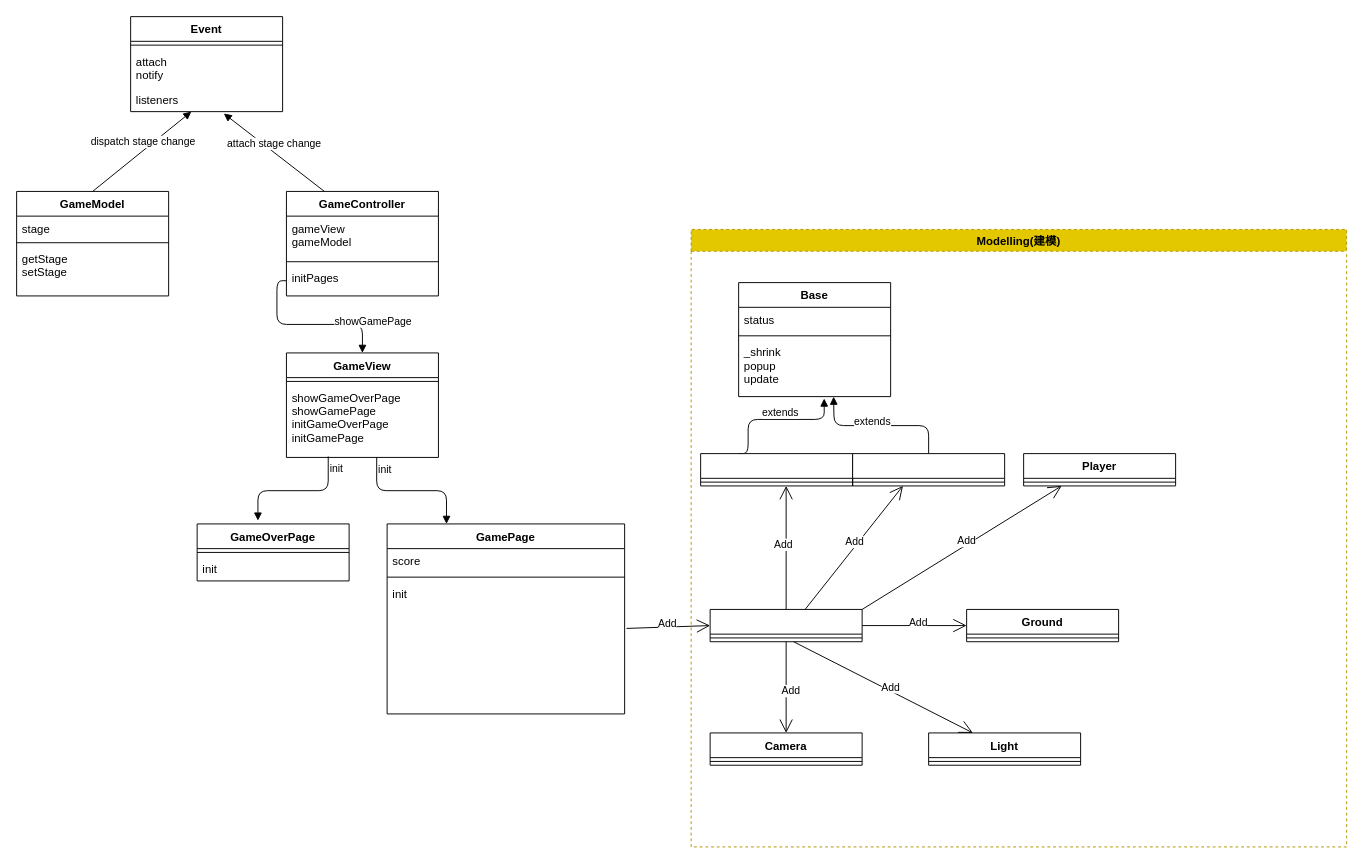
The diagram is 1363 pixels wide and 864 high, and some of its shapes have lost their labels. Each missing label, with the centre of its shape:
"Cuboid(立方体)" goes at point (776, 469).
"Cylinder(圆柱体)" goes at point (928, 469).
"Scene(场景)" goes at point (785, 625).
